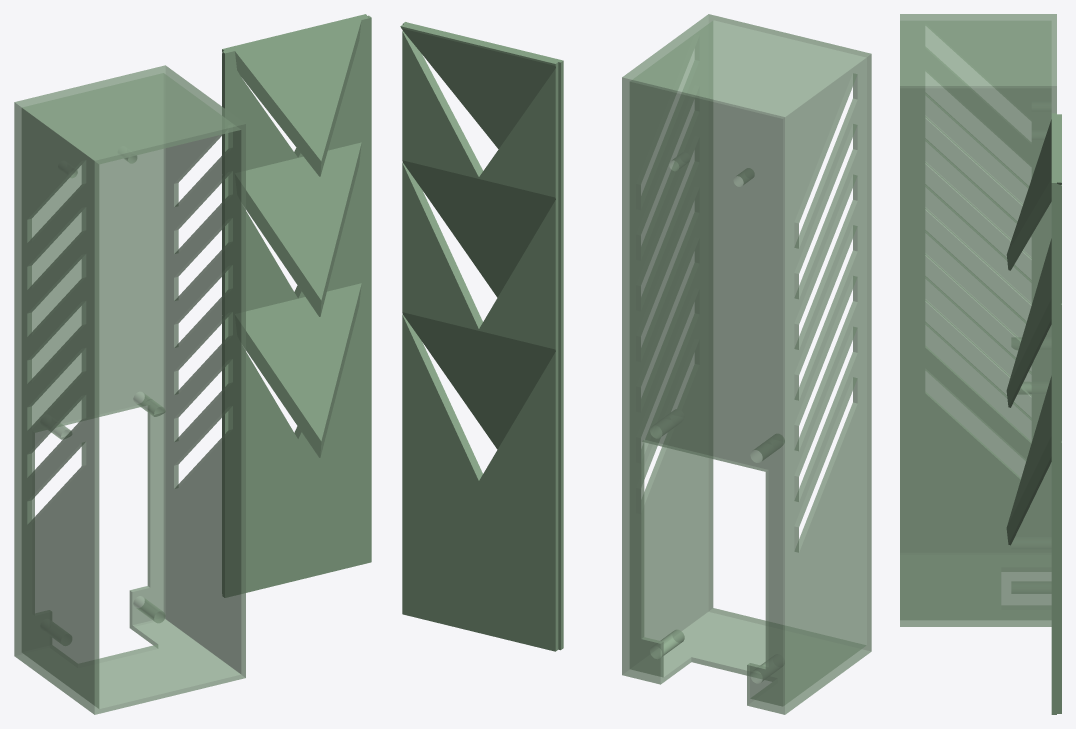
File: IoTSensor.obj
3 views of the same model, side by side, from view 1: azimuth 30°, elevation 25°; view 2: azimuth 150°, elevation 25°; view 3: azimuth 270°, elevation 25° (orthographic). The views are drawn at different scales.
Parts seen in each view (by area): view 1: IoTSensor\Těleso, IoTSensor\Těleso (2); view 2: IoTSensor\Těleso, IoTSensor\Těleso (2); view 3: IoTSensor\Těleso, IoTSensor\Těleso (2).
Boxes of the visible parts, x1,y1,x2,y2 form: IoTSensor\Těleso: (14,65,245,714); IoTSensor\Těleso (2): (222,14,371,597); IoTSensor\Těleso: (622,14,871,714); IoTSensor\Těleso (2): (400,22,563,651); IoTSensor\Těleso: (900,14,1056,626); IoTSensor\Těleso (2): (1006,113,1061,714).
Bounding box in the file's own units: 79.05 × 118 × 32.
